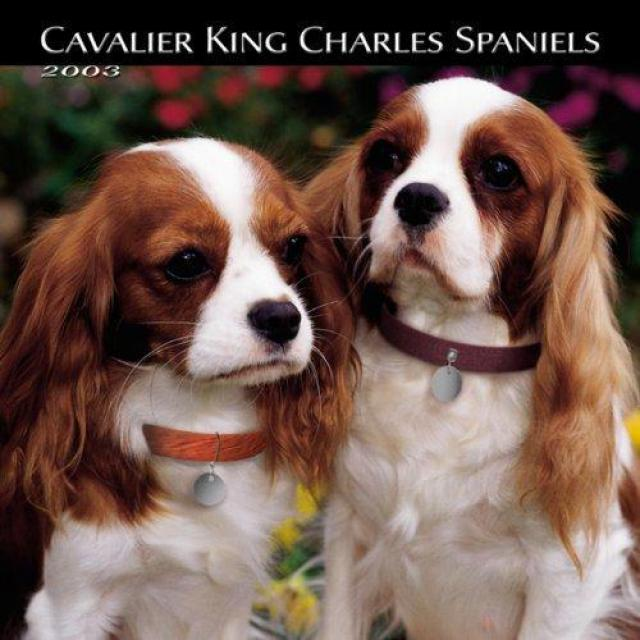blenheim_spaniel: (301, 75, 637, 638), (6, 137, 358, 637)
